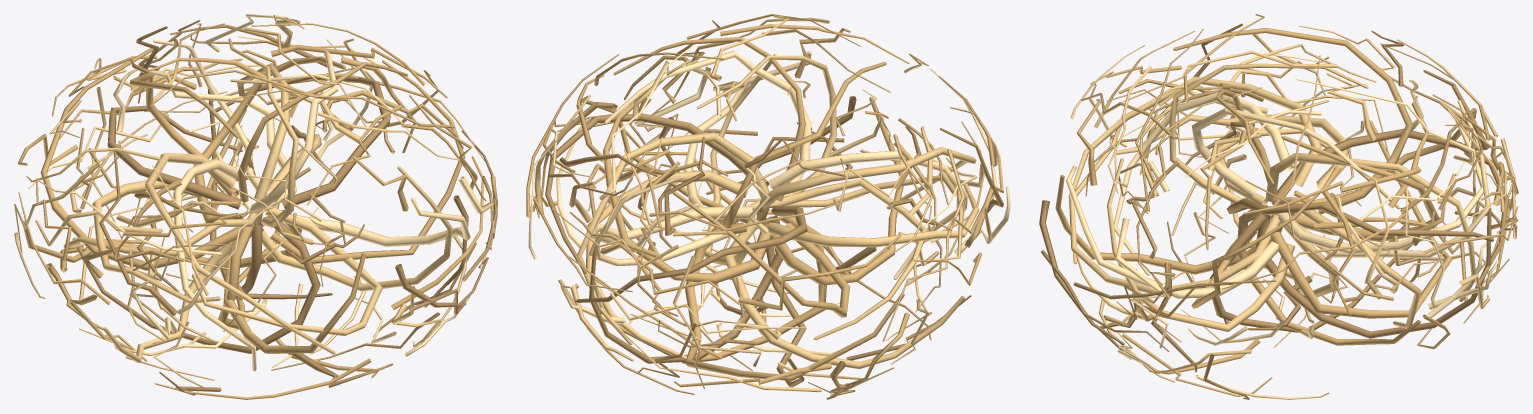
Rendered from debris_tumbleweed_b.glb.
3 renders of one model, left to right at view 1: azimuth 30°, elevation 25°; view 2: azimuth 150°, elevation 25°; view 3: azimuth 270°, elevation 25°, orthographic.
Visible parts, largest first — view 1: debris_tumbleweed_b; view 2: debris_tumbleweed_b; view 3: debris_tumbleweed_b.
Boxes of the visible parts, box(x1,y1,x2,y2) form: debris_tumbleweed_b: box(14, 14, 497, 399); debris_tumbleweed_b: box(526, 14, 1010, 399); debris_tumbleweed_b: box(1039, 14, 1518, 399).
Bounding box in the file's own units: 0.73 × 0.5483 × 0.7295.
1 material, 1 textured.
